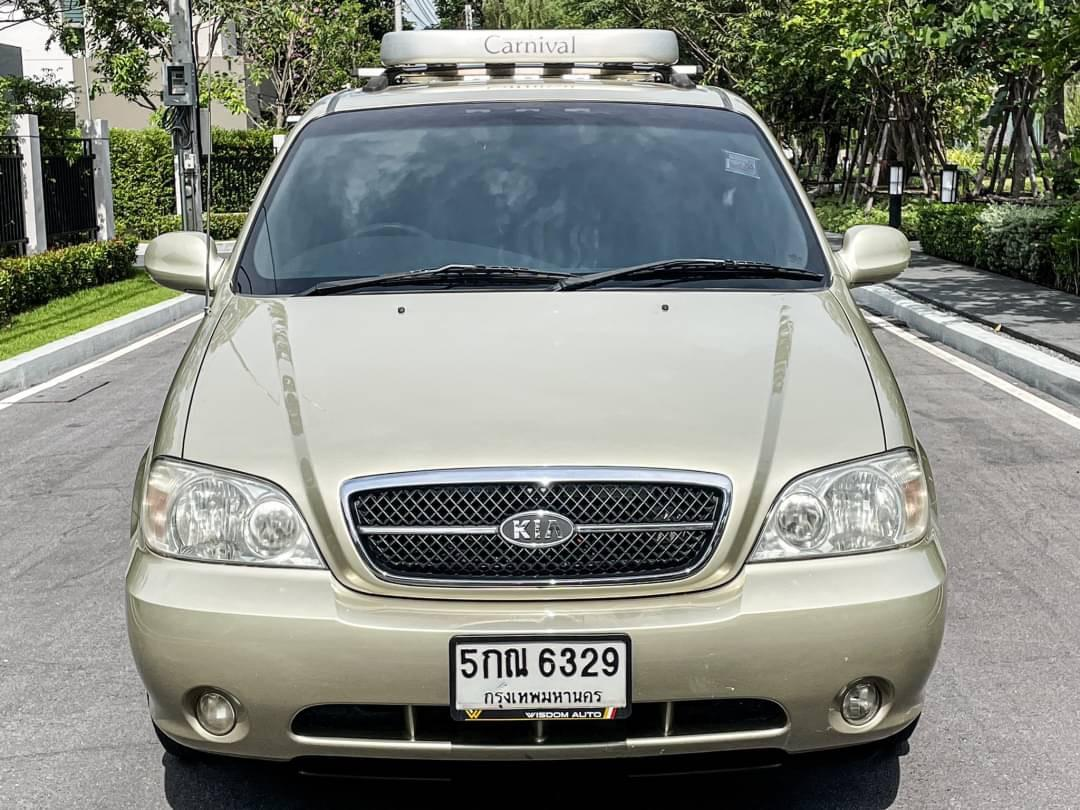license-plate: (448, 632, 636, 726)
